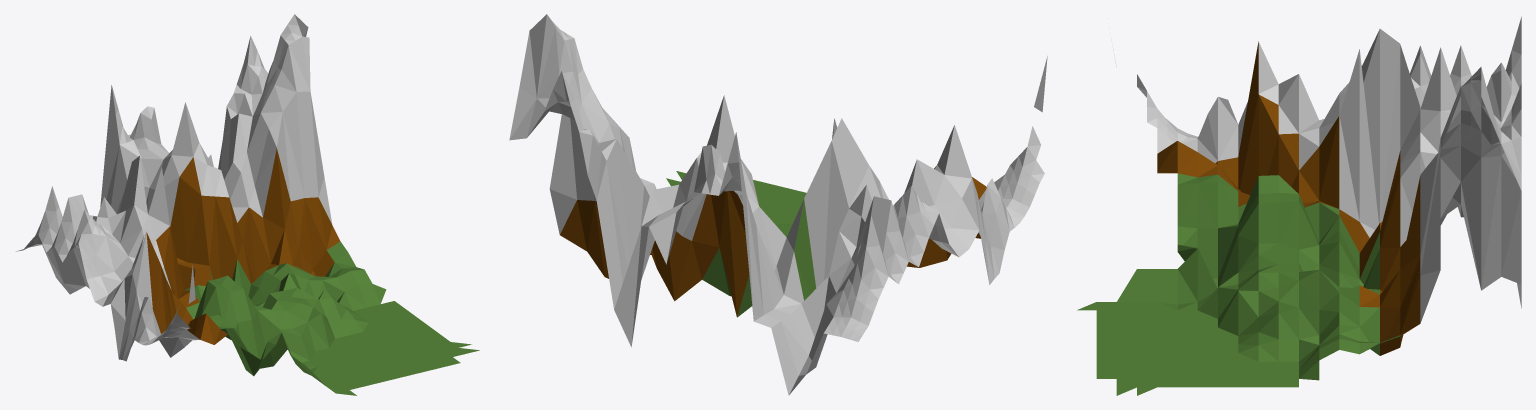
File: TerrainExport2.fbx
3 renders of one model, left to right at view 1: azimuth 30°, elevation 25°; view 2: azimuth 150°, elevation 25°; view 3: azimuth 270°, elevation 25°, orthographic. The views are drawn at different scales.
Visible parts, largest first — view 1: TerrainVertex1:Mesh; view 2: TerrainVertex1:Mesh; view 3: TerrainVertex1:Mesh.
Part boxes in pixels (bbox=[...]): TerrainVertex1:Mesh: bbox=[15, 14, 479, 395]; TerrainVertex1:Mesh: bbox=[509, 14, 1047, 395]; TerrainVertex1:Mesh: bbox=[1077, 16, 1521, 395].
Bounding box in the file's own units: 206 × 158 × 206.
